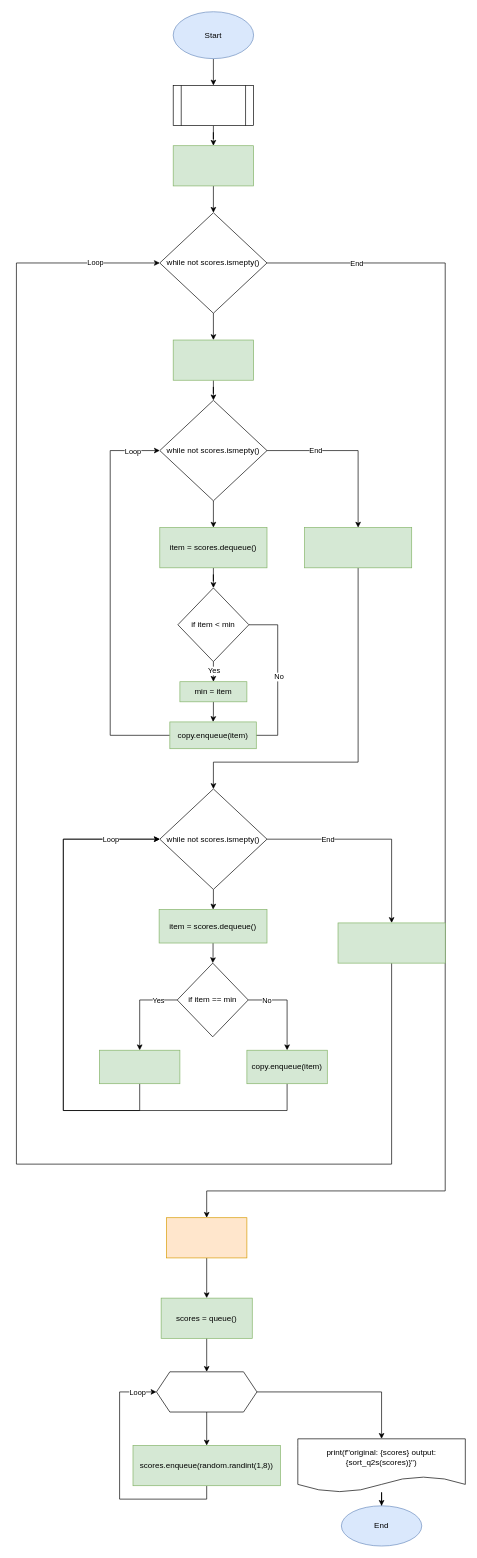
The diagram is 477 pixels wide and 1558 high, and some of its shapes have lost their labels. Here are the shapes that lost their labels. From the top down, the centre of each, then its label:
the point at 213,105: def sort_q2s()
the point at 213,165: output = stack()
the point at 213,359: copy = queue() min = 10
the point at 358,547: scores = copy copy = queue()
the point at 391,942: scores = copy
the point at 139,1067: output.push(item)
the point at 206,1237: return output
the point at 206,1391: for _ in range(10)
